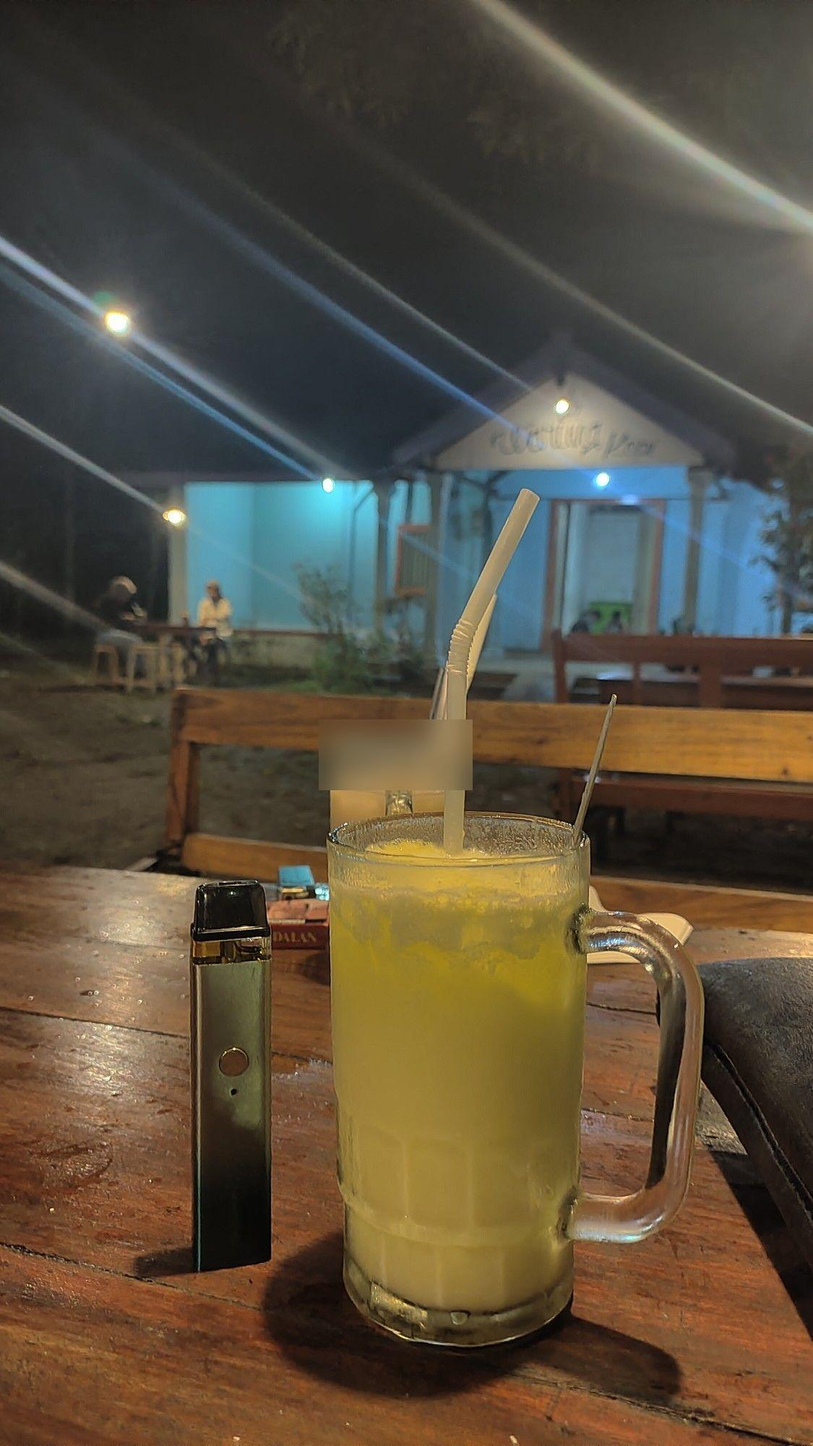glass-mug: (321, 802, 705, 1356)
